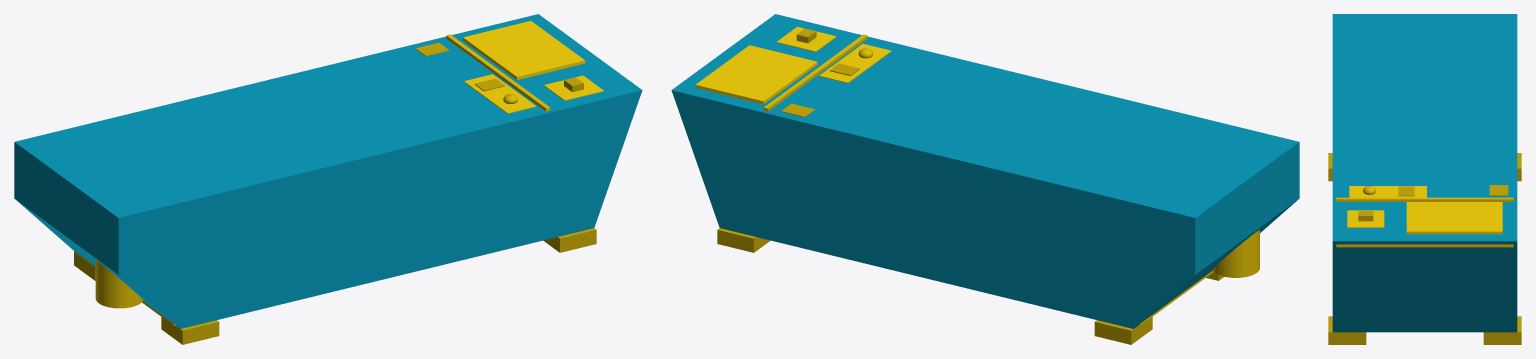
The model's file is c204_B_ecorche_DOC-005.glb.
3 renders of one model, left to right at view 1: azimuth 30°, elevation 25°; view 2: azimuth 150°, elevation 25°; view 3: azimuth 270°, elevation 25°, orthographic. The views are drawn at different scales.
Parts seen in each view (by area): view 1: B-001 [DOC] Enveloppe prismatique à extrémités biseautées, B-034 [DÉD] Plaque ou capot rectangulaire, B-008 [DÉD] Grand réservoir cylindrique vertical d'extrémité, B-035 [DÉD] Platine à fenêtre et bouton bombé, B-002 [DÉD] Patin d'appui n°1, B-038 [DÉD] Barre de séparation du pupitre, B-004 [DÉD] Patin d'appui n°3, B-039 [DÉD] Cadre de l'interrupteur rectangulaire; view 2: B-001 [DOC] Enveloppe prismatique à extrémités biseautées, B-034 [DÉD] Plaque ou capot rectangulaire, B-008 [DÉD] Grand réservoir cylindrique vertical d'extrémité, B-035 [DÉD] Platine à fenêtre et bouton bombé, B-003 [DÉD] Patin d'appui n°2, B-038 [DÉD] Barre de séparation du pupitre, B-005 [DÉD] Patin d'appui n°4, B-039 [DÉD] Cadre de l'interrupteur rectangulaire; view 3: B-001 [DOC] Enveloppe prismatique à extrémités biseautées, B-034 [DÉD] Plaque ou capot rectangulaire, B-038 [DÉD] Barre de séparation du pupitre, B-035 [DÉD] Platine à fenêtre et bouton bombé, B-032 [DÉD] Pont supérieur du pupitre (extrémité droite), B-004 [DÉD] Patin d'appui n°3, B-005 [DÉD] Patin d'appui n°4, B-039 [DÉD] Cadre de l'interrupteur rectangulaire, B-033 [DÉD] Fenêtre ou fente sombre, B-036 [DÉD] Fenêtre rectangulaire de la platine, B-040 [DÉD] Interrupteur rectangulaire.
Boxes of the visible parts, <box> form: B-001 [DOC] Enveloppe prismatique à extrémités biseautées: <box>14,14,642,328</box>; B-034 [DÉD] Plaque ou capot rectangulaire: <box>463,21,585,79</box>; B-008 [DÉD] Grand réservoir cylindrique vertical d'extrémité: <box>95,260,143,308</box>; B-035 [DÉD] Platine à fenêtre et bouton bombé: <box>464,74,536,113</box>; B-002 [DÉD] Patin d'appui n°1: <box>161,317,219,344</box>; B-038 [DÉD] Barre de séparation du pupitre: <box>446,34,550,111</box>; B-004 [DÉD] Patin d'appui n°3: <box>543,228,596,252</box>; B-039 [DÉD] Cadre de l'interrupteur rectangulaire: <box>544,75,603,100</box>; B-001 [DOC] Enveloppe prismatique à extrémités biseautées: <box>671,14,1299,328</box>; B-034 [DÉD] Plaque ou capot rectangulaire: <box>695,45,817,104</box>; B-008 [DÉD] Grand réservoir cylindrique vertical d'extrémité: <box>1212,229,1259,277</box>; B-035 [DÉD] Platine à fenêtre et bouton bombé: <box>819,44,891,83</box>; B-003 [DÉD] Patin d'appui n°2: <box>1094,317,1152,344</box>; B-038 [DÉD] Barre de séparation du pupitre: <box>763,34,867,111</box>; B-005 [DÉD] Patin d'appui n°4: <box>717,228,770,252</box>; B-039 [DÉD] Cadre de l'interrupteur rectangulaire: <box>776,26,836,52</box>; B-001 [DOC] Enveloppe prismatique à extrémités biseautées: <box>1332,14,1517,332</box>; B-034 [DÉD] Plaque ou capot rectangulaire: <box>1406,202,1502,234</box>; B-038 [DÉD] Barre de séparation du pupitre: <box>1336,197,1513,201</box>; B-035 [DÉD] Platine à fenêtre et bouton bombé: <box>1349,186,1426,197</box>; B-032 [DÉD] Pont supérieur du pupitre (extrémité droite): <box>1336,244,1513,247</box>; B-004 [DÉD] Patin d'appui n°3: <box>1328,316,1366,344</box>; B-005 [DÉD] Patin d'appui n°4: <box>1483,316,1521,344</box>; B-039 [DÉD] Cadre de l'interrupteur rectangulaire: <box>1347,210,1384,227</box>; B-033 [DÉD] Fenêtre ou fente sombre: <box>1489,185,1508,195</box>; B-036 [DÉD] Fenêtre rectangulaire de la platine: <box>1398,186,1414,196</box>; B-040 [DÉD] Interrupteur rectangulaire: <box>1358,211,1373,221</box>.
Bounding box in the file's own units: 0.85 × 0.2286 × 0.3056.
